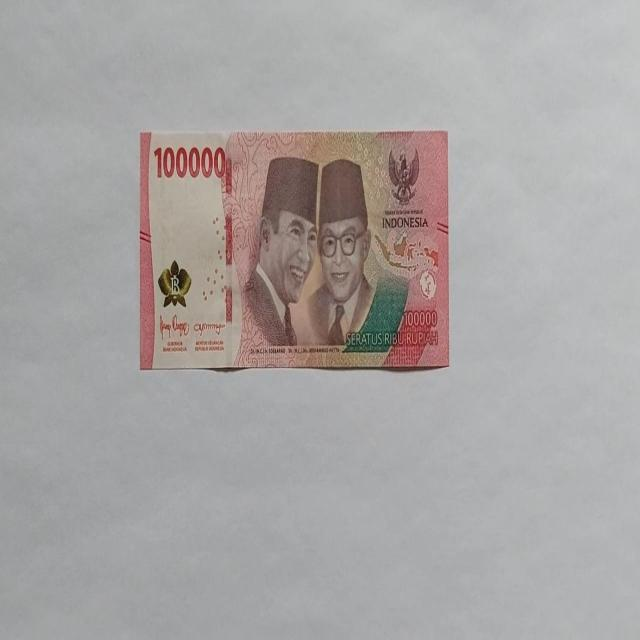Kertas: (139, 127, 450, 373), (152, 142, 226, 180)
